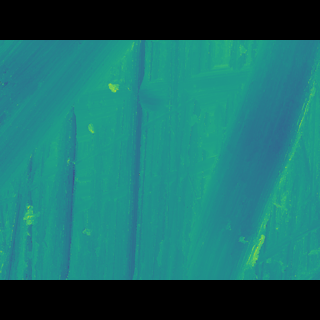Loch: (183, 70, 320, 249), (0, 69, 135, 182)
